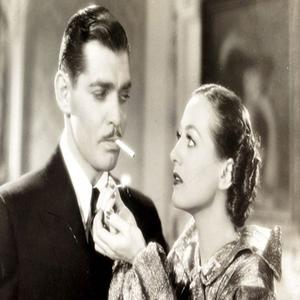cigarette: (116, 139, 139, 163)
